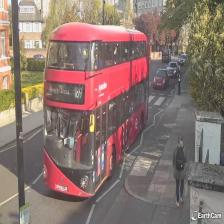person: (171, 133, 186, 205)
